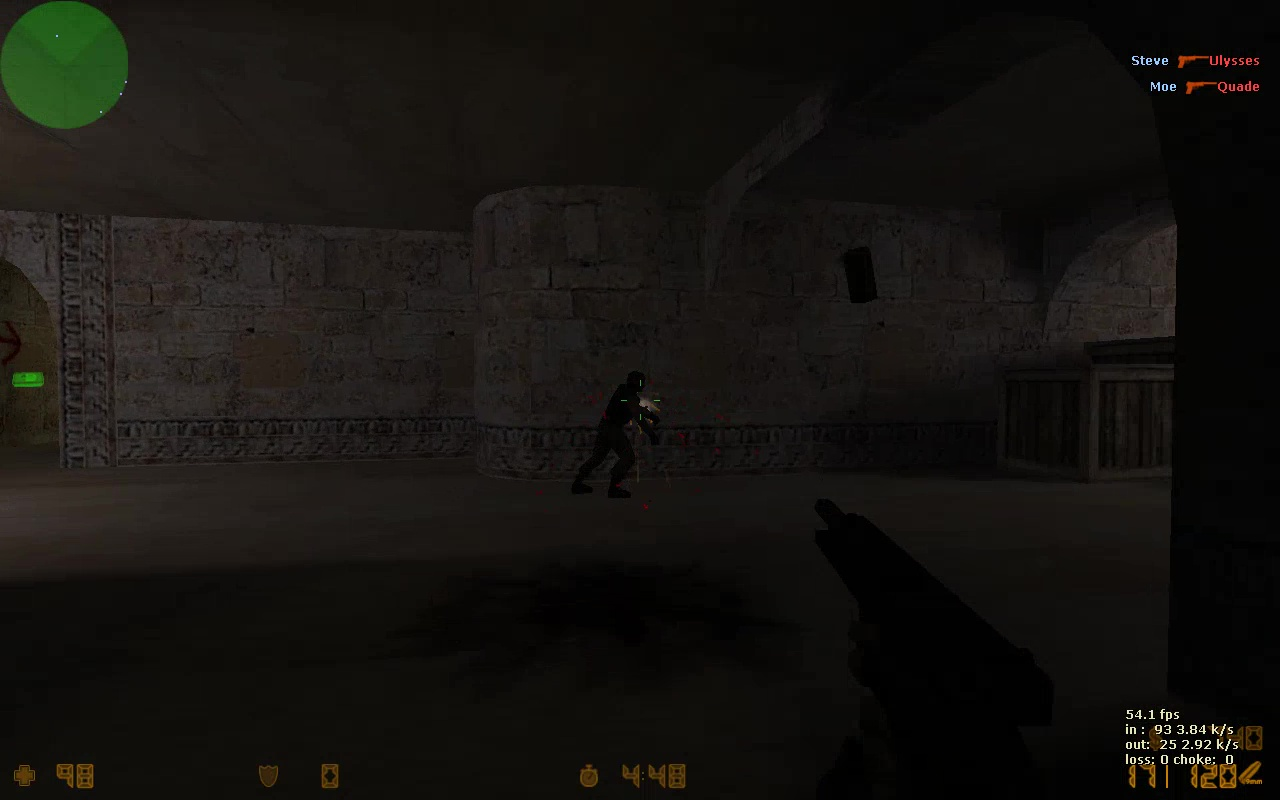terr1: (567, 366, 659, 496)
